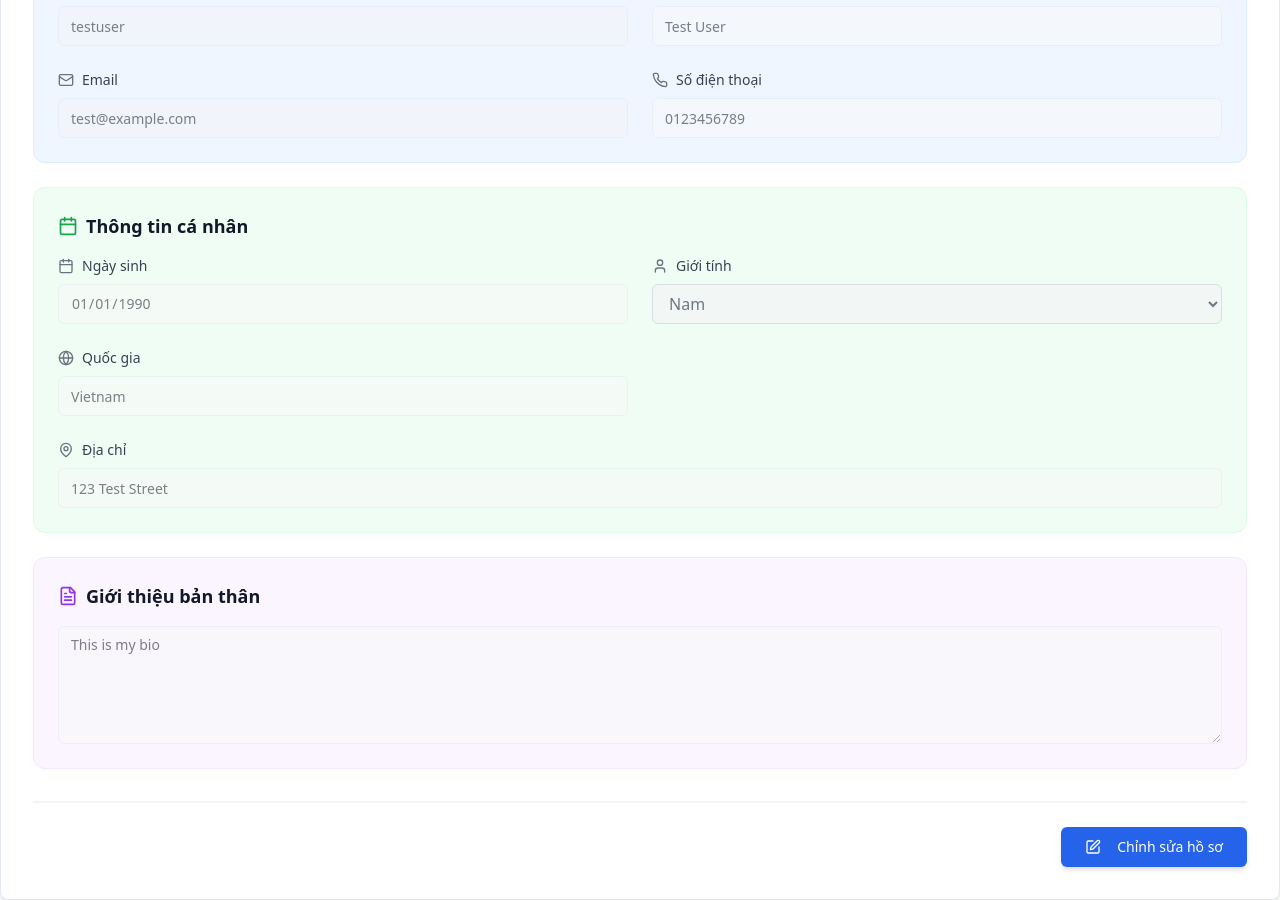
Test: Update Profile Functional Tests › Shows validation error when full name is too short
(page scrolled)
Click the button "Chỉnh sửa hồ sơ" at [1154, 847], box [1061, 827, 1247, 867]
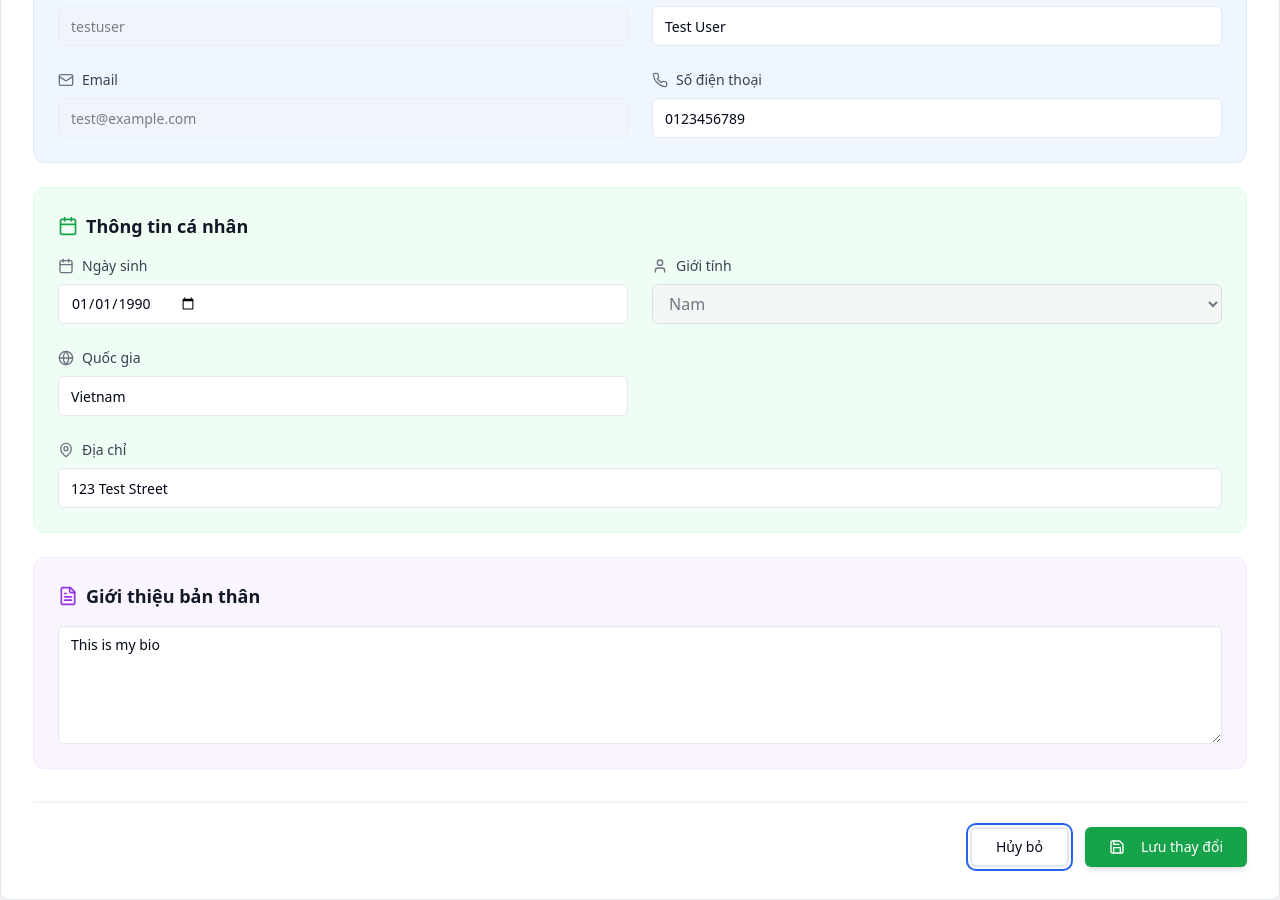
Note:  2️⃣ ACT
Replace the text in the field showing "Test User" below "Họ và tên" with "A" at [937, 26], box [652, 6, 1222, 46]
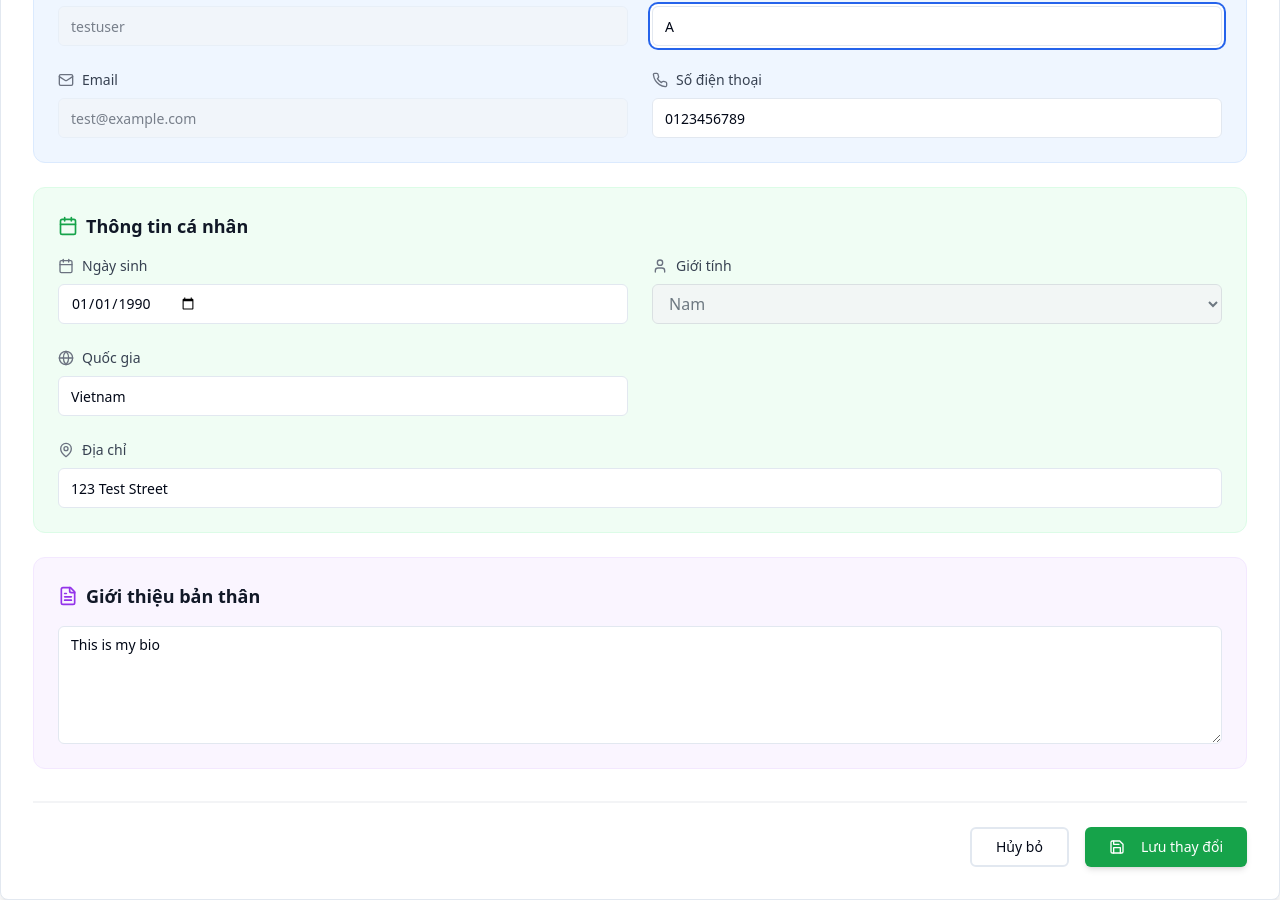
Click the button "Lưu thay đổi" at [1166, 847], box [1085, 827, 1247, 867]
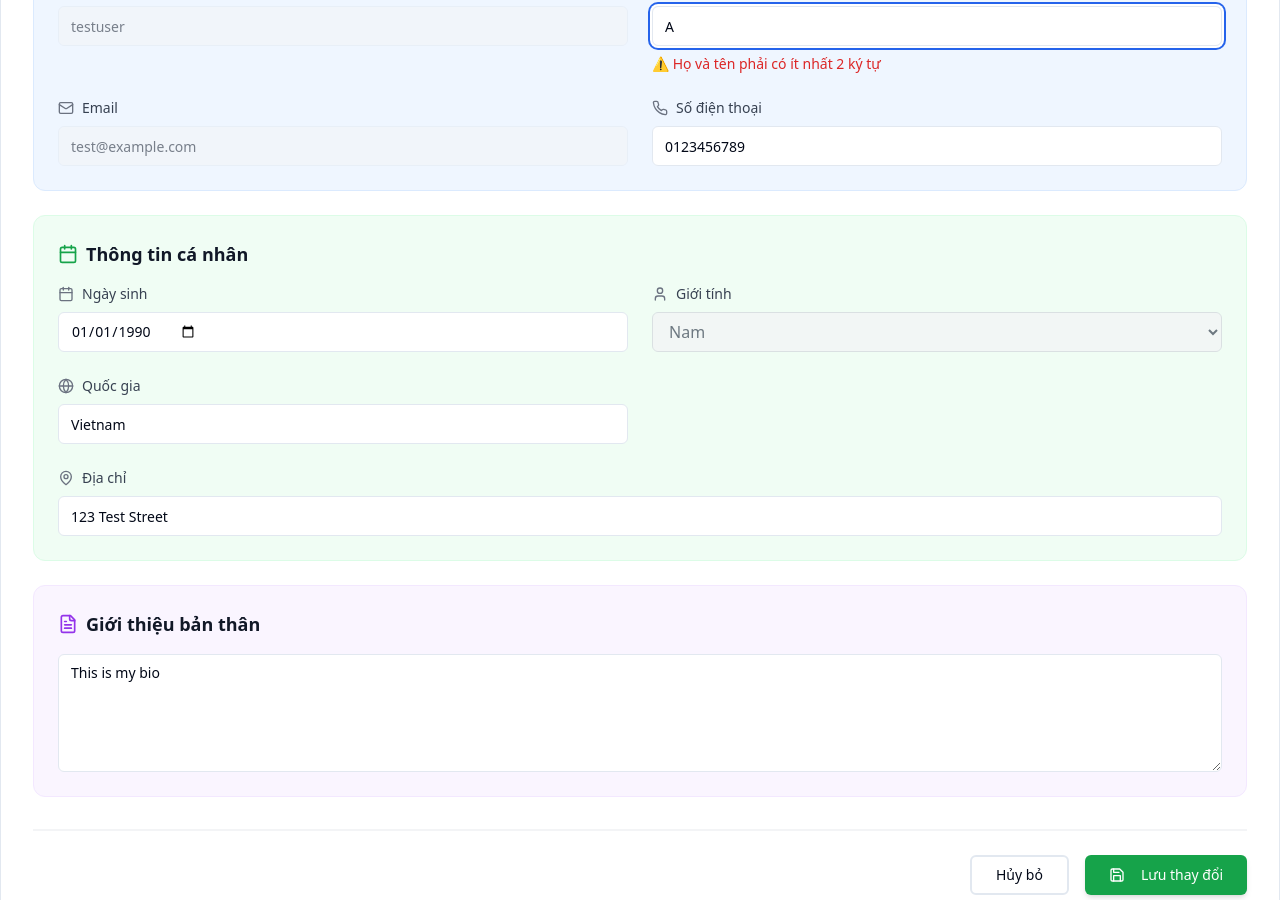
Now the text "⚠️ Họ và tên phải có ít nhất 2 ký tự" is shown, box [652, 54, 881, 73]
